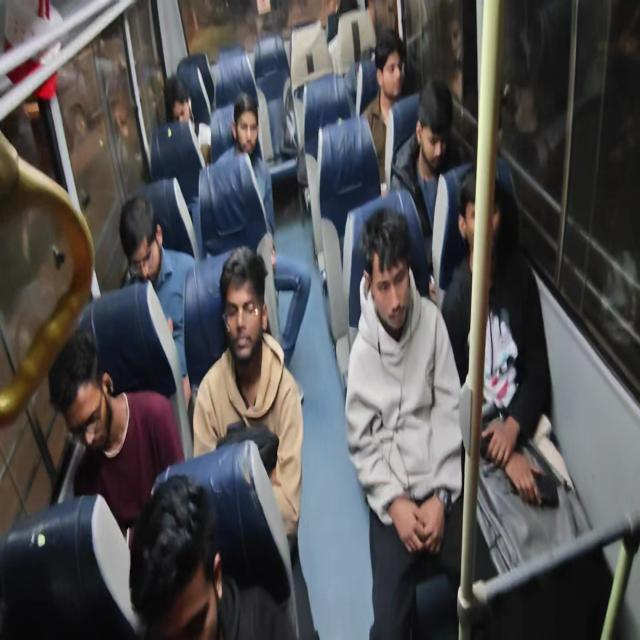person: (112, 454, 247, 640), (36, 334, 164, 506), (351, 210, 435, 379), (190, 243, 278, 396), (456, 185, 521, 302), (418, 88, 473, 213), (112, 178, 172, 292), (158, 79, 217, 154), (374, 0, 413, 103), (232, 105, 273, 173)
